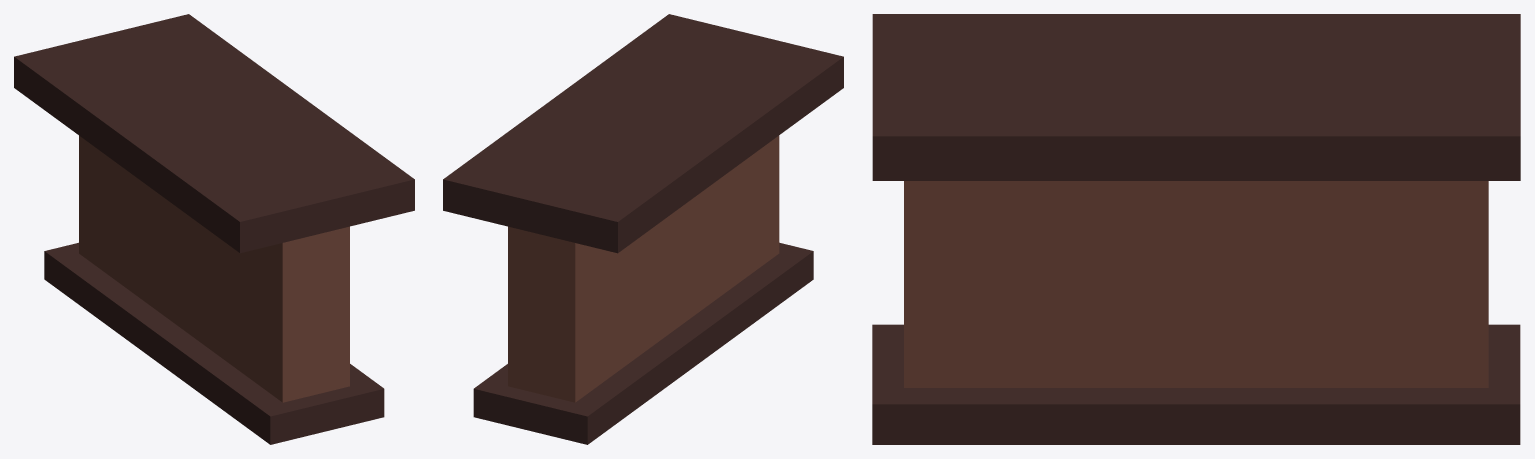
The model's file is KitchenIsland.fbx.
3 renders of one model, left to right at view 1: azimuth 30°, elevation 25°; view 2: azimuth 150°, elevation 25°; view 3: azimuth 270°, elevation 25°, orthographic. The views are drawn at different scales.
Parts seen in each view (by area): view 1: KitchenIsland; view 2: KitchenIsland; view 3: KitchenIsland.
Boxes of the visible parts, bbox=[...] form: KitchenIsland: bbox=[14, 14, 414, 444]; KitchenIsland: bbox=[443, 14, 843, 444]; KitchenIsland: bbox=[872, 14, 1520, 444].
Size of the model in its own units: 598 by 753 by 1340.
